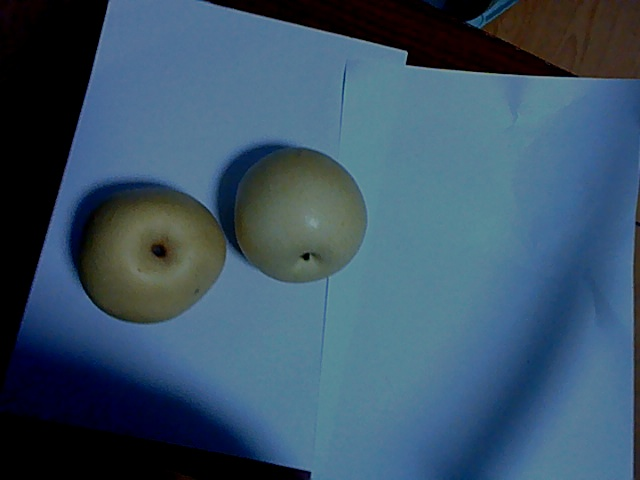pear: (70, 148, 366, 320)
